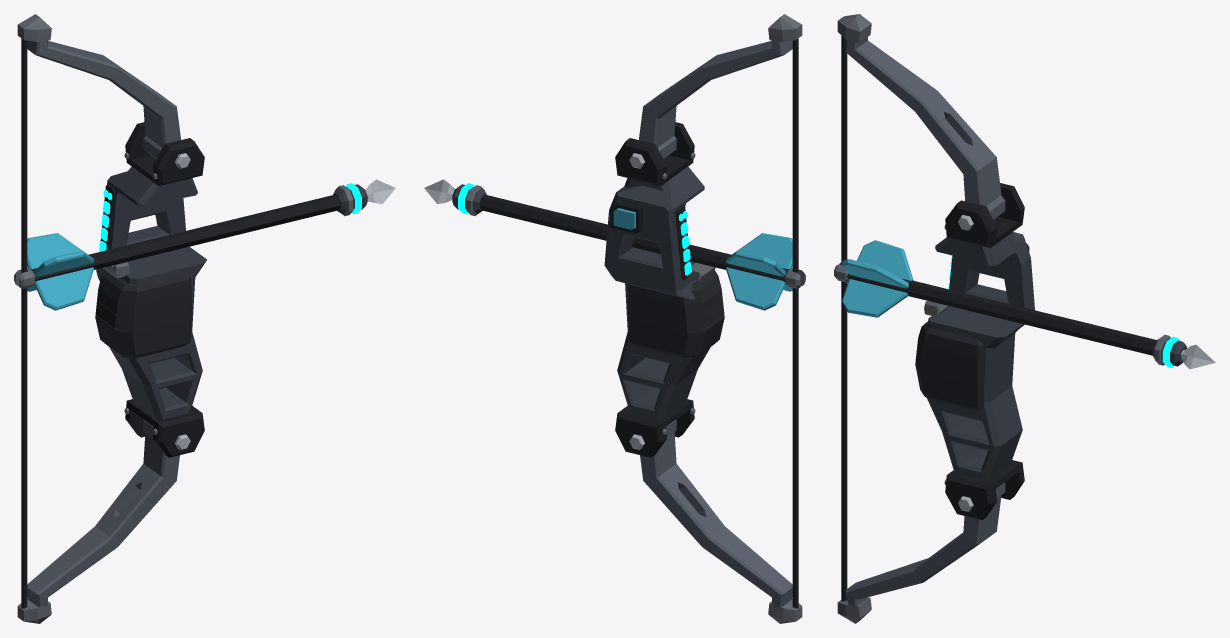
File: Recon.fbx
3 renders of one model, left to right at view 1: azimuth 30°, elevation 25°; view 2: azimuth 150°, elevation 25°; view 3: azimuth 330°, elevation 25°, orthographic.
Parts seen in each view (by area): view 1: Riser, Grip, LimbBottom, Dart_Shaft, LimbTop, Dart_Fletch, PocketTop, PocketBottom, StringBottom, StringTop, TipCapTop, TipCapBottom; view 2: Riser, LimbBottom, Grip, LimbTop, Dart_Fletch, Dart_Shaft, PocketTop, PocketBottom, StringBottom, StringTop, TipCapTop, TipCapBottom (+1 smaller); view 3: Riser, LimbTop, Grip, Dart_Shaft, Dart_Fletch, LimbBottom, PocketTop, PocketBottom, StringBottom, StringTop, TipCapTop, TipCapBottom (+1 smaller).
Part boxes in pixels (x1,y1,x2,y2): Riser: [96, 166, 206, 420]; Grip: [95, 271, 191, 358]; LimbBottom: [27, 419, 179, 606]; Dart_Shaft: [30, 194, 340, 284]; LimbTop: [27, 38, 180, 158]; Dart_Fletch: [27, 233, 94, 310]; PocketTop: [125, 122, 204, 185]; PocketBottom: [125, 399, 204, 457]; StringBottom: [21, 288, 27, 608]; StringTop: [21, 38, 27, 273]; TipCapTop: [17, 14, 51, 41]; TipCapBottom: [17, 598, 51, 623]; Riser: [604, 166, 710, 420]; LimbBottom: [640, 419, 792, 607]; Grip: [628, 270, 724, 358]; LimbTop: [639, 38, 792, 158]; Dart_Fletch: [725, 233, 792, 310]; Dart_Shaft: [479, 194, 789, 284]; PocketTop: [615, 122, 694, 185]; PocketBottom: [615, 399, 694, 457]; StringBottom: [792, 288, 798, 608]; StringTop: [792, 38, 798, 273]; TipCapTop: [768, 14, 802, 41]; TipCapBottom: [768, 598, 802, 623]; Riser: [927, 232, 1034, 480]; LimbTop: [845, 37, 1005, 219]; Grip: [915, 321, 984, 410]; Dart_Shaft: [846, 273, 1156, 355]; Dart_Fletch: [841, 240, 913, 317]; LimbBottom: [845, 482, 1005, 607]; PocketTop: [945, 183, 1024, 247]; PocketBottom: [945, 460, 1024, 519]; StringBottom: [841, 281, 847, 601]; StringTop: [841, 35, 847, 264]; TipCapTop: [837, 14, 871, 43]; TipCapBottom: [837, 597, 871, 623].
Bounding box in the file's own units: 1 × 1.53 × 0.2055.
